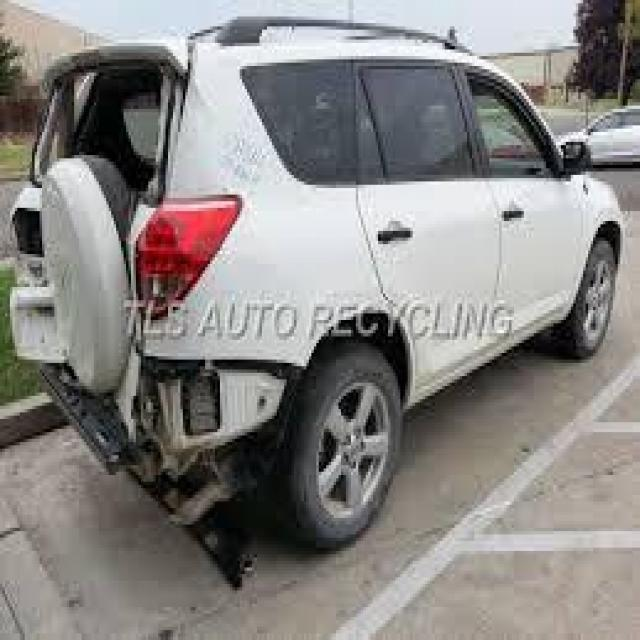damaged: (116, 326, 299, 584)
